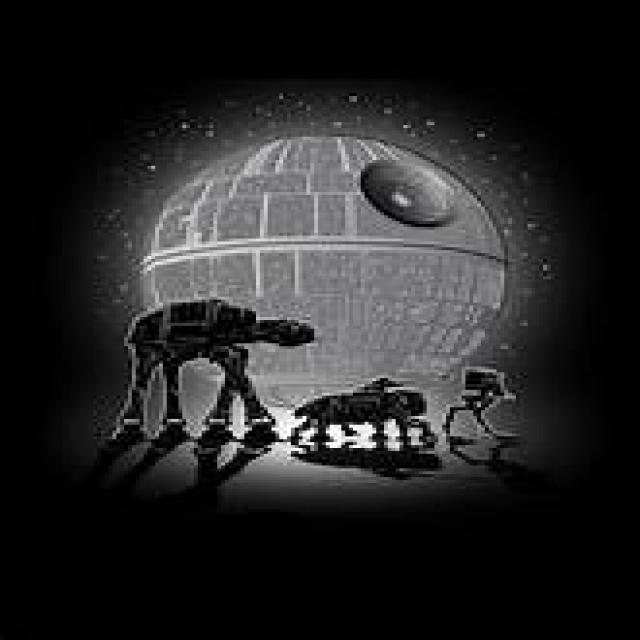deathStar: (141, 129, 514, 415)
